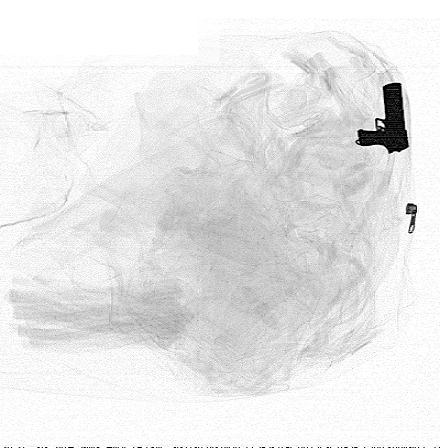Gun: (358, 81, 411, 156)
